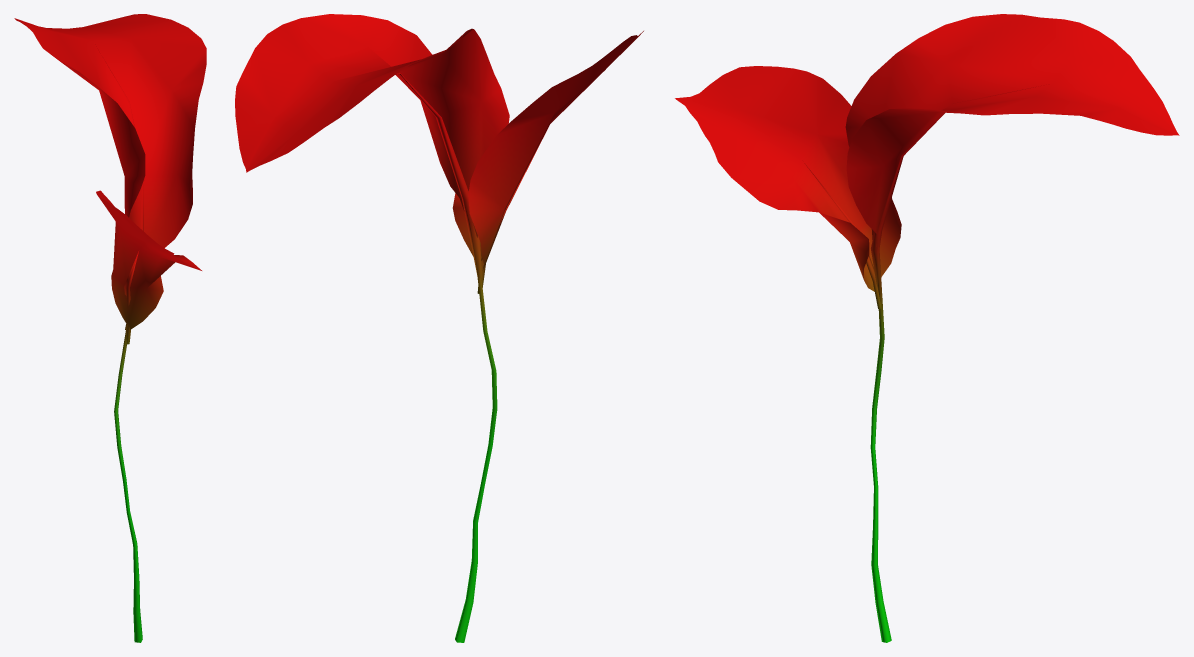
Rendered from Lily Of The Valley_LOD1_Var6_xikkdhjja.fbx.
The picture shows the model from 3 angles, left to right: view 1: azimuth 30°, elevation 25°; view 2: azimuth 150°, elevation 25°; view 3: azimuth 270°, elevation 25°; orthographic projection. The views are drawn at different scales.
Visible parts, largest first — view 1: _ucve_Var6_LOD1; view 2: _ucve_Var6_LOD1; view 3: _ucve_Var6_LOD1.
Part boxes in pixels (x1,y1,x2,y2): _ucve_Var6_LOD1: [14, 14, 206, 642]; _ucve_Var6_LOD1: [235, 14, 643, 642]; _ucve_Var6_LOD1: [675, 14, 1179, 642].
Bounding box in the file's own units: 11.69 × 33.29 × 25.12.
